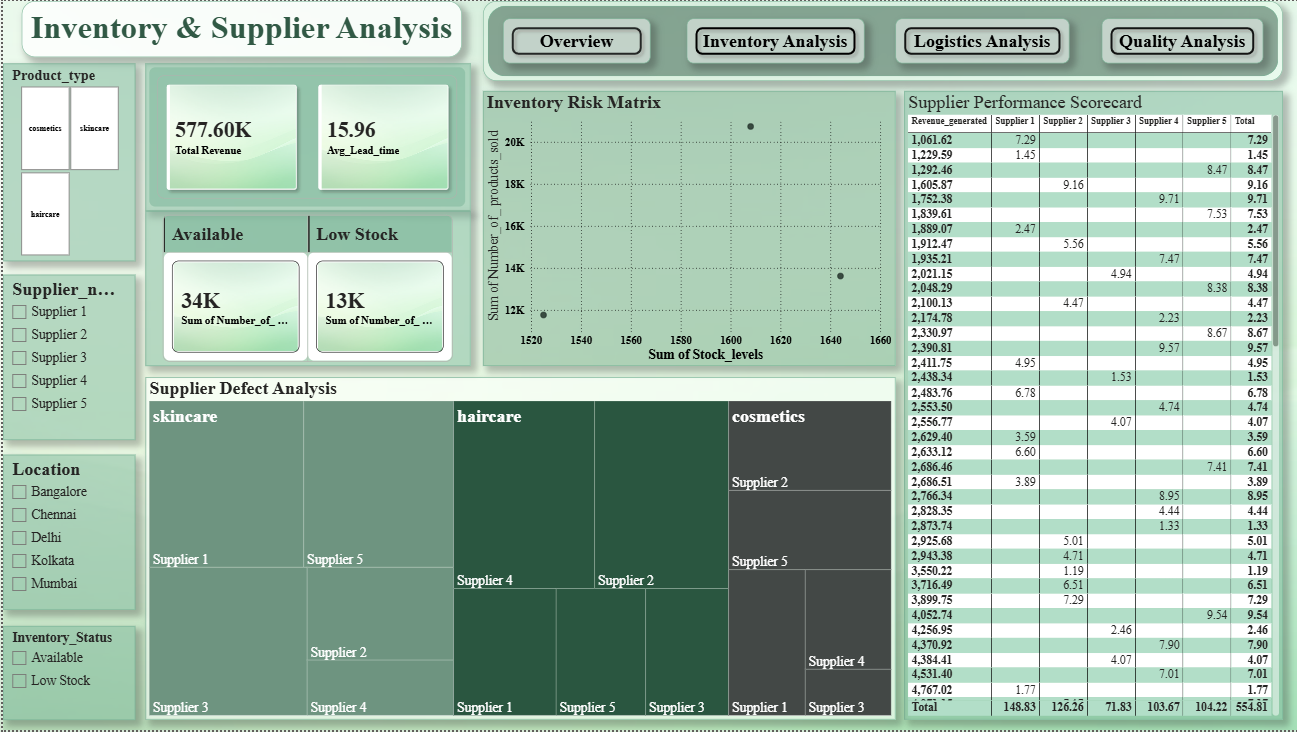

The page's visual inventory and layout, read from the dashboard file:
{"tool":"powerbi","page":{"name":"Inventory Analysis","canvas":[1920,1080],"ordinal":1},"visuals":[{"type":"textbox","box":[27.8,0,651.9,83.3],"z":0},{"type":"shape","box":[711.1,0,1185.2,118.5],"z":1000},{"type":"actionButton","box":[740.7,25.9,218.5,66.7],"z":3000},{"type":"actionButton","box":[1013,25.9,263,66.7],"z":4000},{"type":"actionButton","box":[1322.2,25.9,257.4,66.7],"z":5000},{"type":"actionButton","box":[1627.8,25.9,238.9,66.7],"z":6000},{"type":"scatterChart","title":"Inventory Risk Matrix","fields":{"X":["Sum(supply_chain_data.Stock_levels)"],"Category":["supply_chain_data.Product_type"],"Y":["Sum(supply_chain_data.Number_of_ products_sold)"]},"box":[711.1,133.3,611.1,407.4],"z":7000},{"type":"pivotTable","title":"Supplier Performance Scorecard","fields":{"Columns":["supply_chain_data.Supplier_name"],"Values":["Sum(supply_chain_data.Shipping_costs)"],"Rows":["supply_chain_data.Revenue_generated"]},"box":[1335.2,133.3,561.1,931.5],"z":8000},{"type":"treemap","title":"Supplier Defect Analysis","fields":{"Values":["Sum(supply_chain_data.Defect_rates)"],"Group":["supply_chain_data.Product_type"],"Details":["supply_chain_data.Supplier_name"]},"box":[211.1,557.4,1111.1,507.4],"z":9000},{"type":"slicer","fields":{"Values":["supply_chain_data.Product_type"]},"box":[0,92.6,196.3,292.6],"z":10000},{"type":"slicer","fields":{"Values":["supply_chain_data.Supplier_name"]},"box":[0,405.6,196.3,244.4],"z":11000},{"type":"slicer","fields":{"Values":["supply_chain_data.Location"]},"box":[0,672.2,196.3,229.6],"z":12000},{"type":"cardVisual","fields":{"Data":["supply_chain_data.Total Revenue","supply_chain_data.Avg_Lead_time"]},"box":[211.1,92.6,481.5,218.5],"z":14000},{"type":"cardVisual","fields":{"Rows":["supply_chain_data.Inventory_Status"],"Data":["Sum(supply_chain_data.Number_of_ products_sold)"]},"box":[211.1,311.1,481.5,229.6],"z":15000},{"type":"slicer","fields":{"Values":["supply_chain_data.Inventory_Status"]},"box":[0,925.9,196.3,138.9],"z":16000}]}

Visuals, with their boxes in screenshot pixels (x1, y1, x2, y2), scaled from the page's 1920x1080 canvas onto the 1297x732 screenshot:
textbox: 19,0,459,56
shape: 480,0,1281,80
actionButton: 500,18,648,63
actionButton: 684,18,862,63
actionButton: 893,18,1067,63
actionButton: 1100,18,1261,63
"Inventory Risk Matrix" scatterChart: 480,90,893,366
"Supplier Performance Scorecard" pivotTable: 902,90,1281,722
"Supplier Defect Analysis" treemap: 143,378,893,722
slicer - supply_chain_data.Product_type: 0,63,133,261
slicer - supply_chain_data.Supplier_name: 0,275,133,441
slicer - supply_chain_data.Location: 0,456,133,611
cardVisual - supply_chain_data.Total Revenue x supply_chain_data.Avg_Lead_time: 143,63,468,211
cardVisual - supply_chain_data.Inventory_Status x Sum(supply_chain_data.Number_of_ products_sold): 143,211,468,366
slicer - supply_chain_data.Inventory_Status: 0,628,133,722
